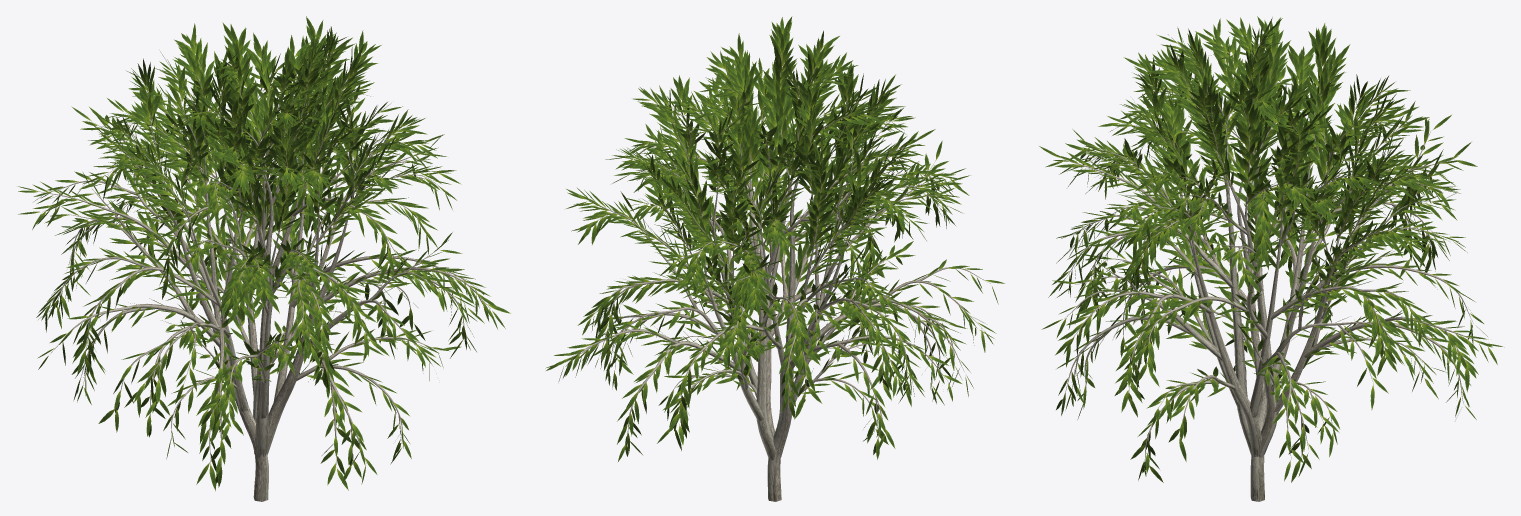
Rendered from tree1.fbx.
3 views of the same model, side by side, from view 1: azimuth 30°, elevation 25°; view 2: azimuth 150°, elevation 25°; view 3: azimuth 270°, elevation 25° (orthographic). The views are drawn at different scales.
Visible parts, largest first — view 1: leaves, tree; view 2: leaves, tree; view 3: leaves, tree.
Boxes of the visible parts, bbox=[...] form: leaves: bbox=[18, 16, 510, 491]; tree: bbox=[40, 52, 490, 501]; leaves: bbox=[545, 16, 1004, 461]; tree: bbox=[565, 50, 990, 501]; leaves: bbox=[1039, 16, 1504, 482]; tree: bbox=[1063, 39, 1475, 501].
Size of the model in its own units: 578 by 682 by 605.
